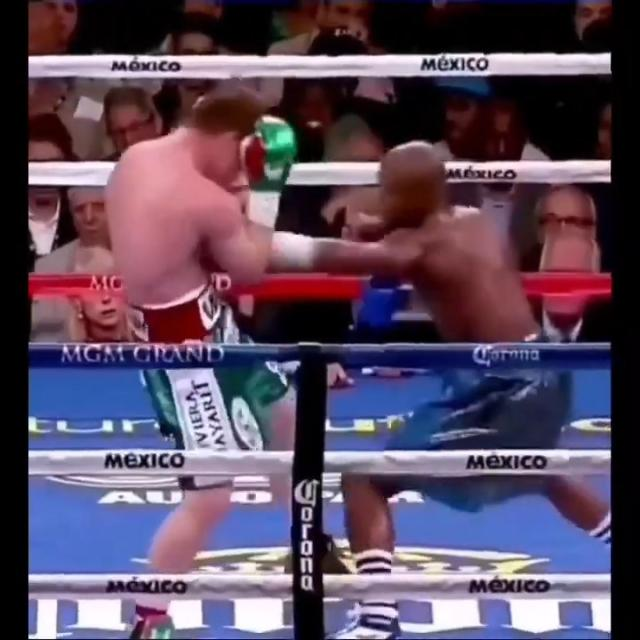Jab: (211, 191, 519, 369)
